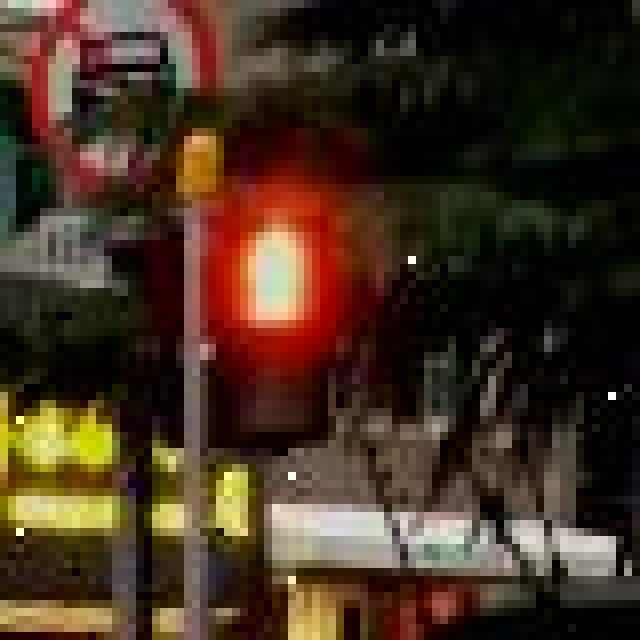redlight: (201, 199, 341, 436)
